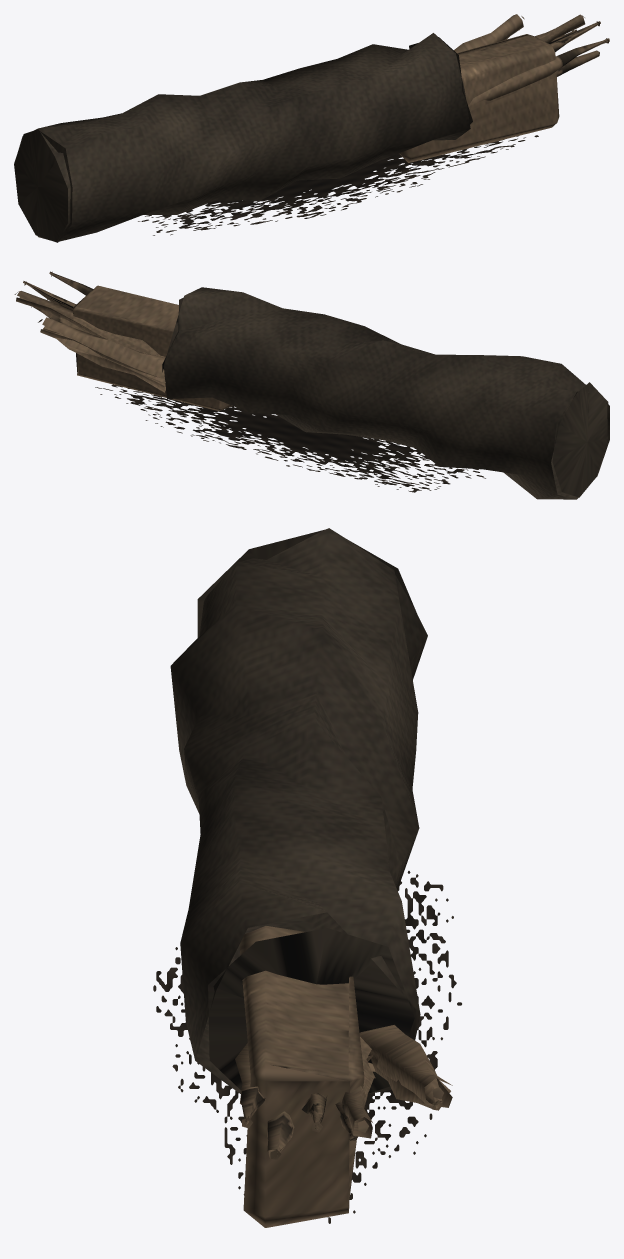
File: log_fallen_split.glb
The picture shows the model from 3 angles, top to bottom: view 1: azimuth 30°, elevation 25°; view 2: azimuth 150°, elevation 25°; view 3: azimuth 270°, elevation 25°; orthographic projection. The views are drawn at different scales.
Visible parts, largest first — view 1: log_fallen_split; view 2: log_fallen_split; view 3: log_fallen_split.
Boxes of the visible parts, x1=… form: log_fallen_split: x1=14, y1=14, x2=609, y2=242; log_fallen_split: x1=14, y1=271, x2=609, y2=499; log_fallen_split: x1=153, y1=528, x2=461, y2=1227.
Bounding box in the file's own units: 2.89 × 0.6065 × 0.78.
2 materials, 2 textured.
